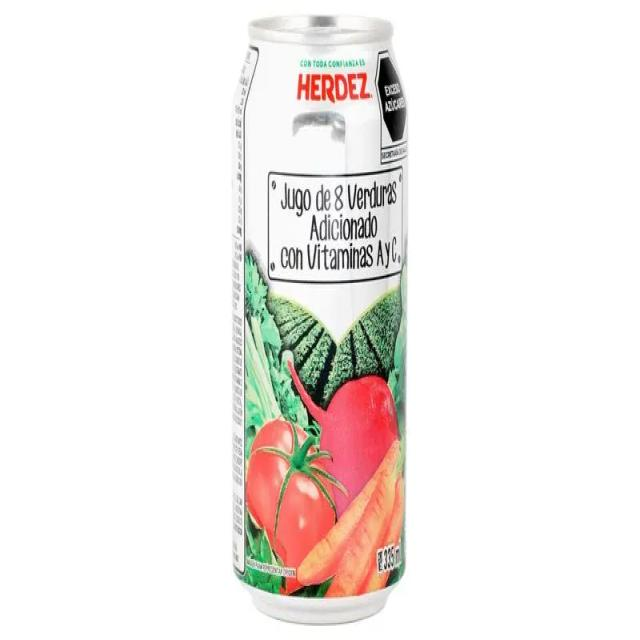Lata: (232, 12, 408, 623)
